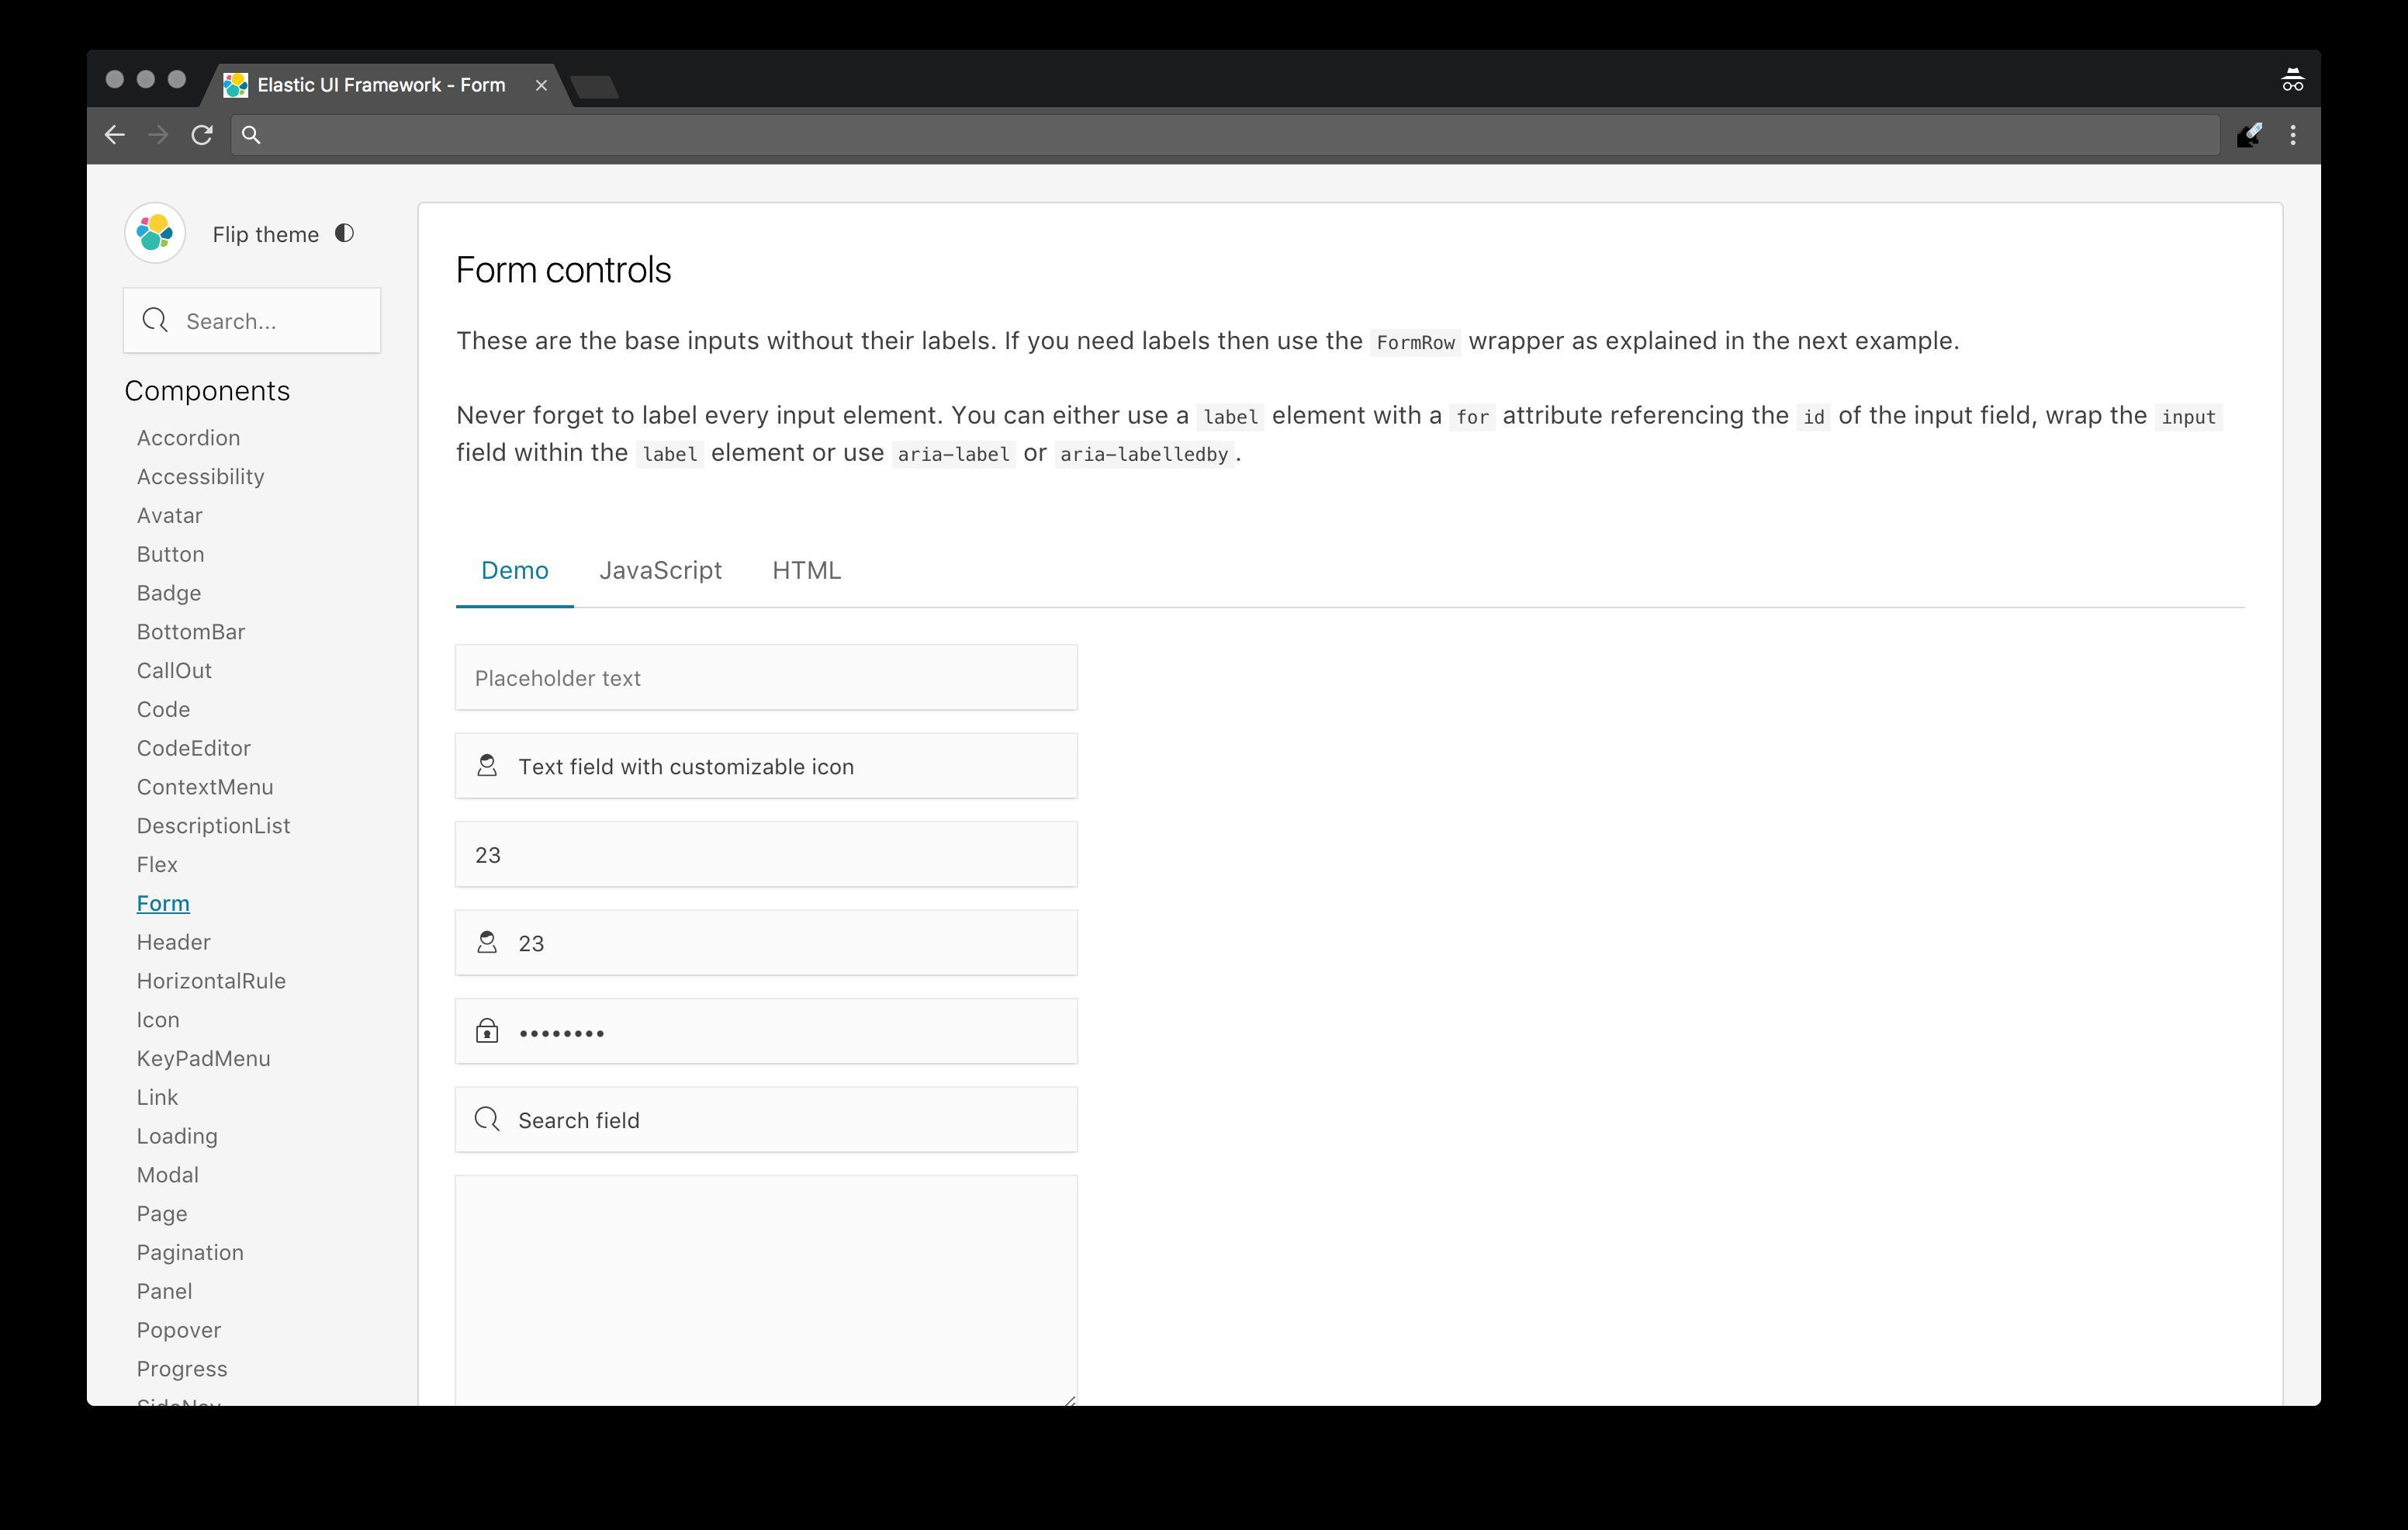icon: (335, 221, 355, 249)
input: (455, 911, 1081, 979), (456, 735, 1078, 802), (458, 998, 1079, 1065), (456, 1090, 1079, 1155), (458, 644, 1078, 709), (458, 821, 1078, 886), (121, 288, 383, 356)
label: (597, 560, 727, 588), (769, 558, 846, 586), (481, 556, 551, 584)
